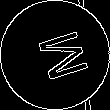M_W: (24, 25, 86, 85)
